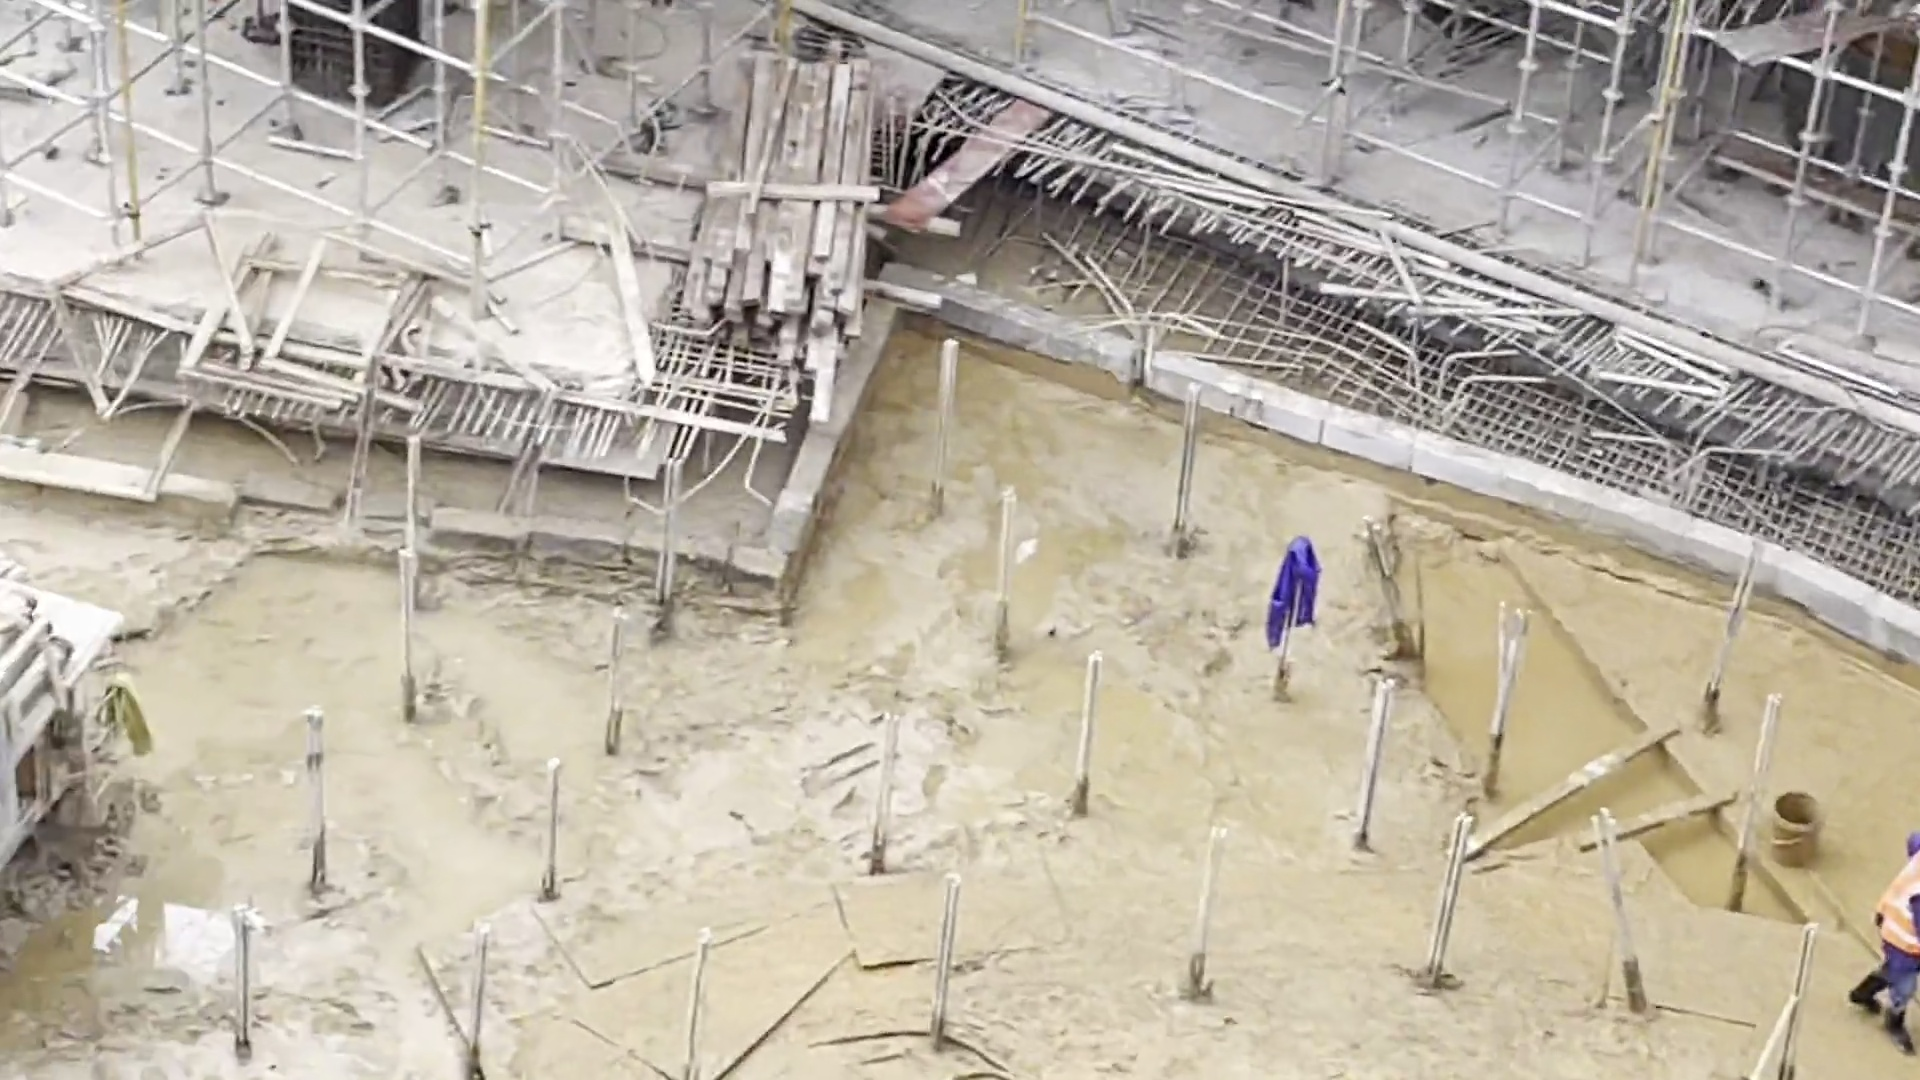person: (1853, 827, 1920, 1057)
vest: (1871, 858, 1920, 953)
wood: (682, 48, 871, 379)
